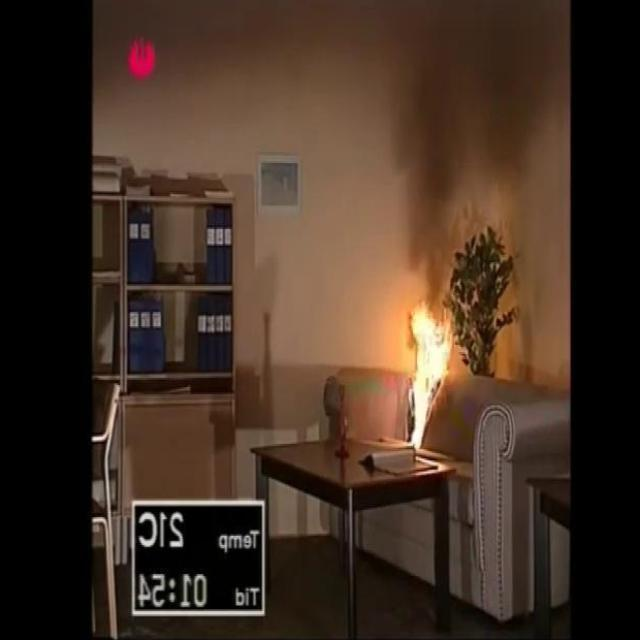fire: (385, 0, 570, 271)
smoke: (403, 290, 456, 459)
